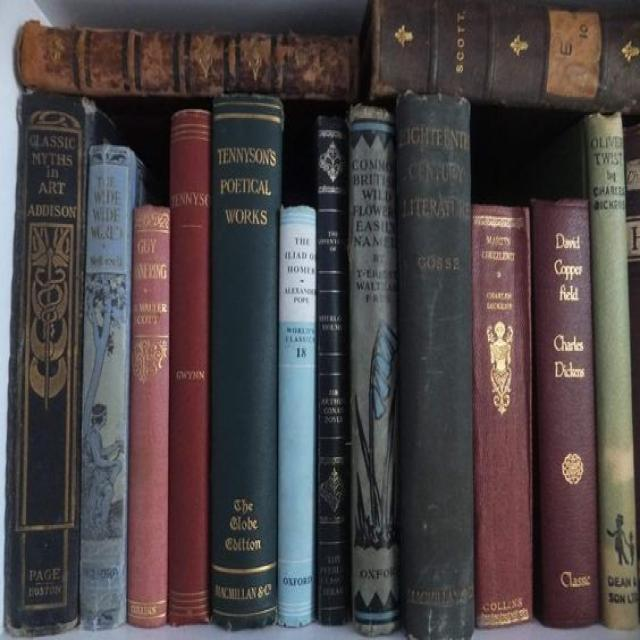book: (7, 96, 85, 633), (401, 106, 474, 638), (210, 99, 278, 630), (528, 197, 599, 624), (371, 1, 640, 103), (352, 107, 401, 637), (78, 145, 131, 628), (472, 204, 531, 625), (20, 23, 361, 91), (592, 115, 637, 627), (165, 111, 209, 625), (316, 114, 352, 627), (129, 207, 168, 627), (278, 205, 314, 630)
